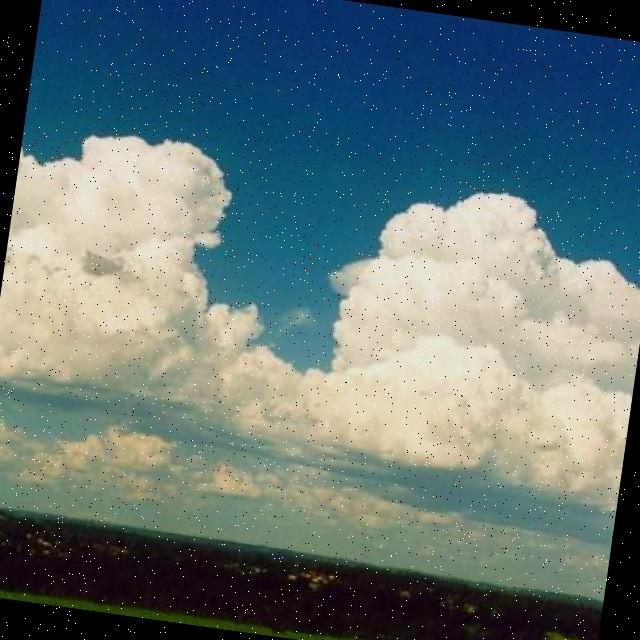Cb: (1, 105, 640, 521)
